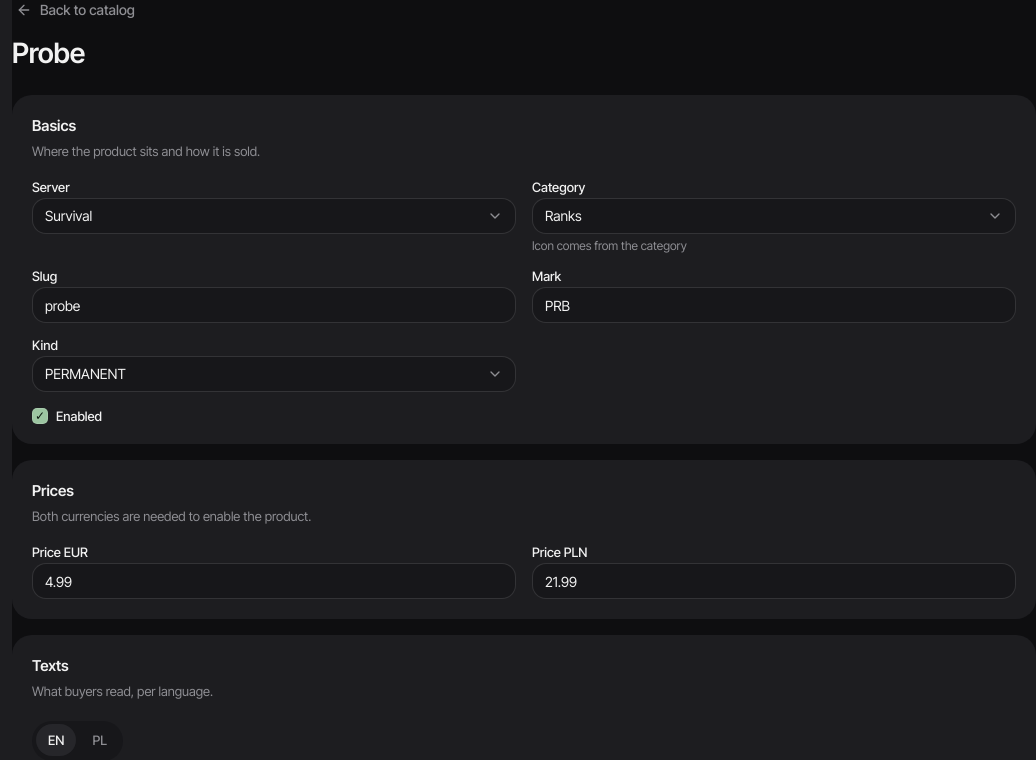
Test case: ProductEditor › an enabled product › stays enabled when a price is cleared and typed again
The image size is (1036, 760).
Clear the field labelled "Price EUR" at (274, 581), box x1=32 y1=563 x2=516 y2=599
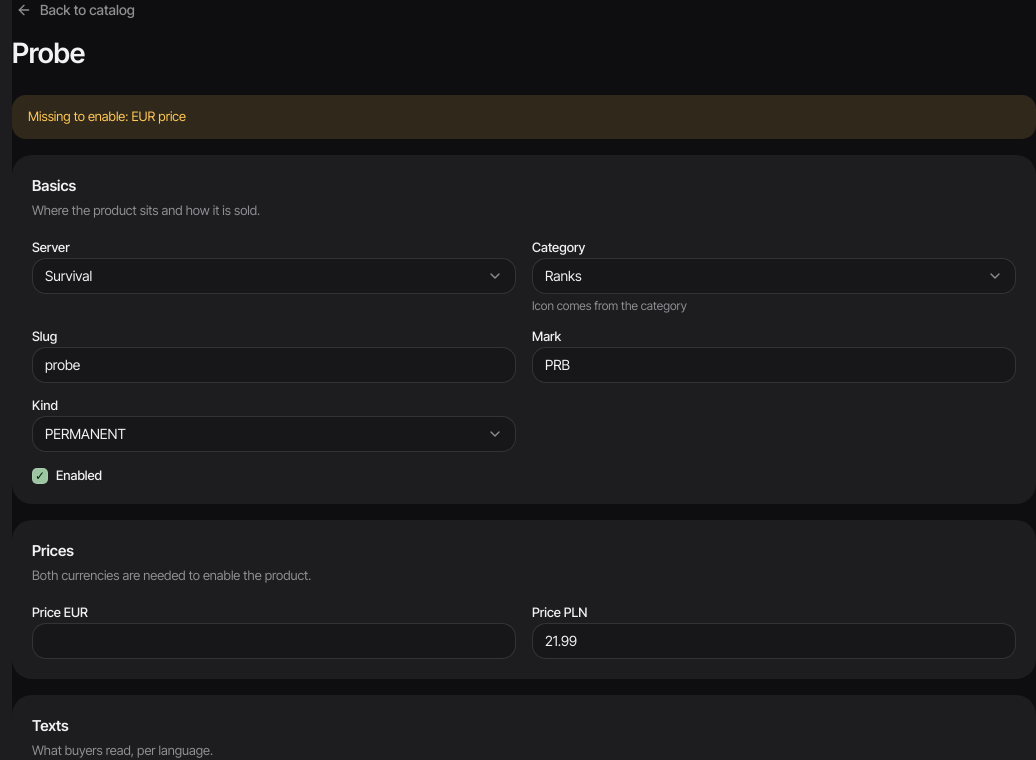
Check: the checkbox named "Enabled" is checked, box x1=32 y1=468 x2=48 y2=484
Check: the checkbox named "Enabled" is enabled, box x1=32 y1=468 x2=48 y2=484
Type "4.99" into the field labelled "Price EUR" at (274, 640), box x1=32 y1=622 x2=516 y2=658
(page scrolled)
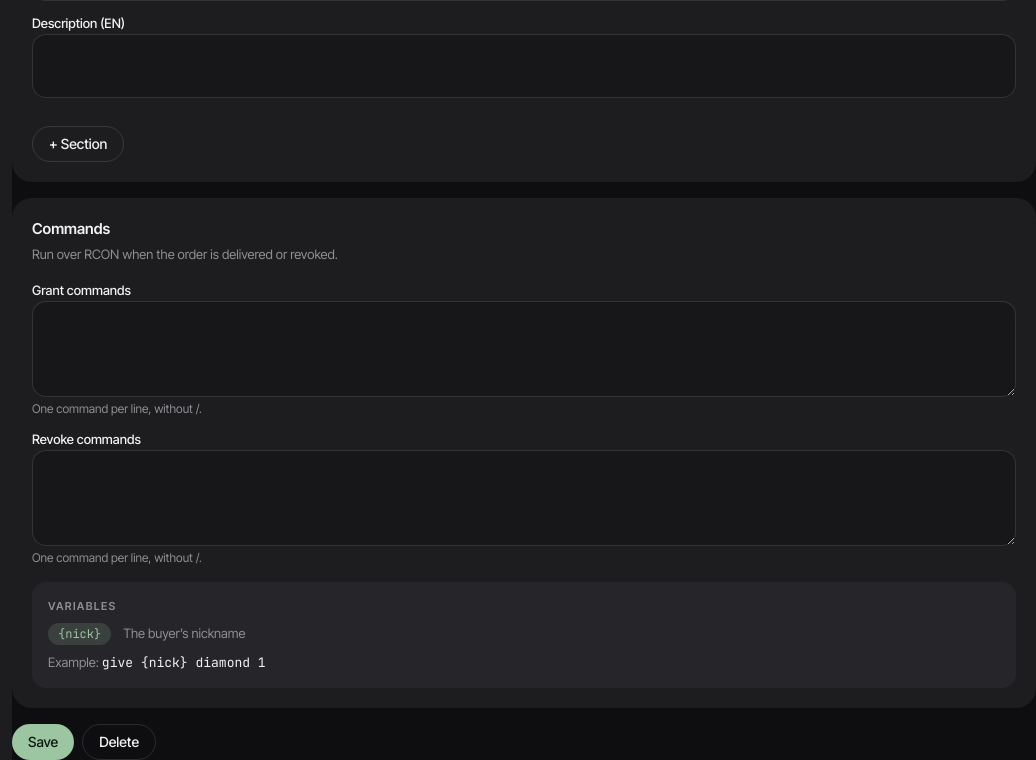
Click the button "Save" at (43, 742), box x1=12 y1=724 x2=74 y2=759
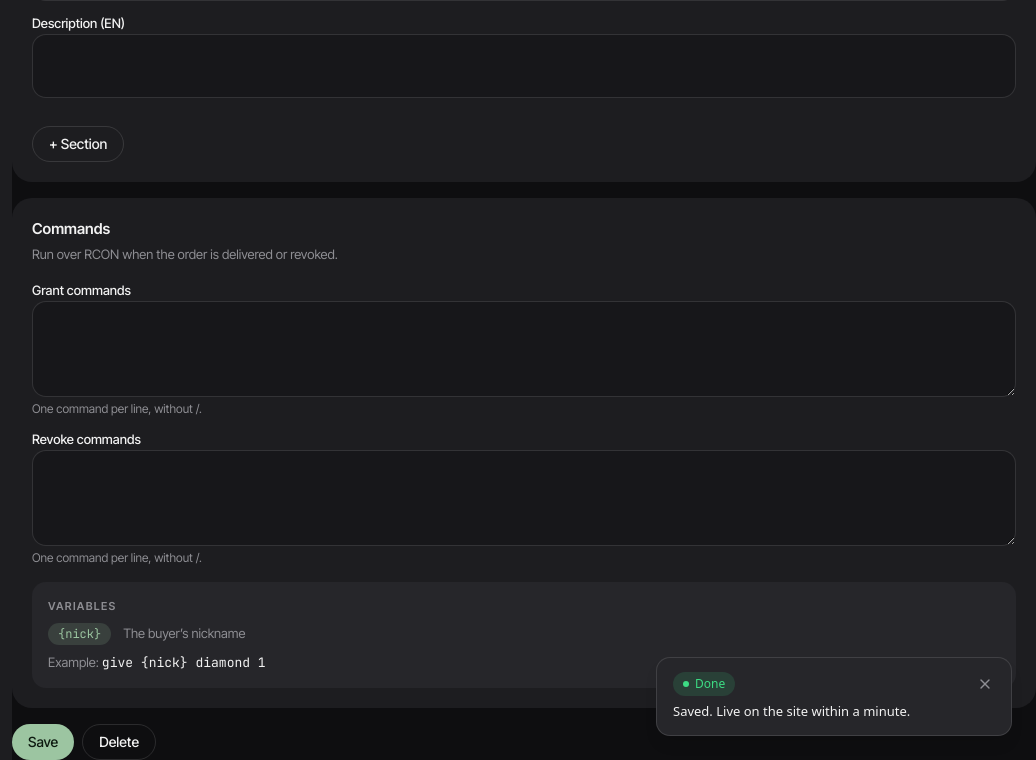
Check: the text "Saved. Live on the site within a minute." is shown, box x1=673 y1=702 x2=910 y2=721
